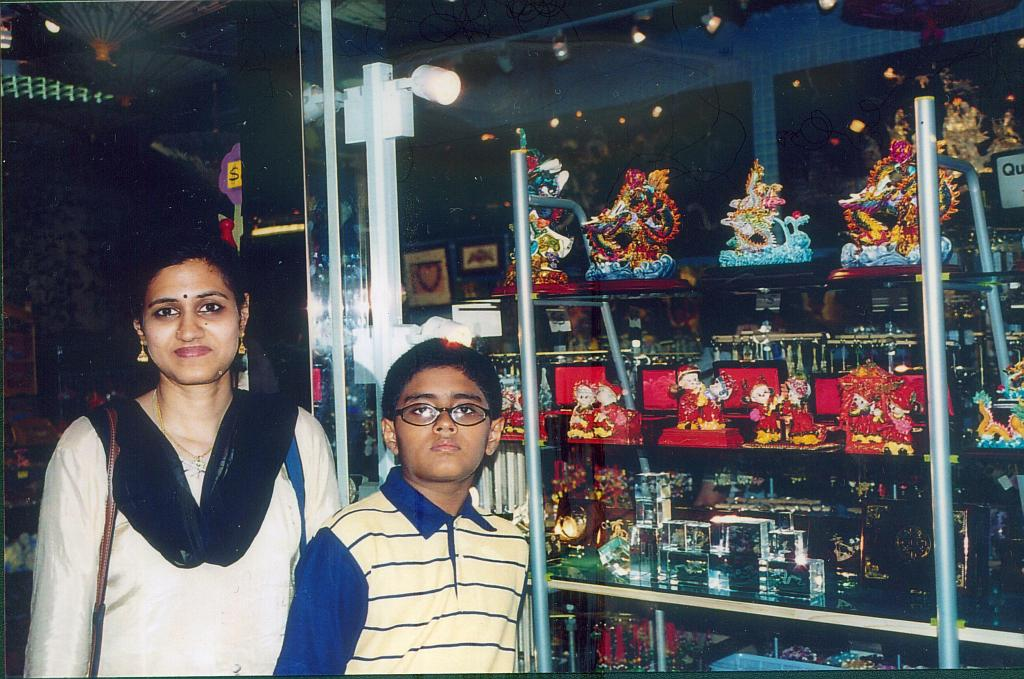Human-face: (138, 258, 240, 376), (400, 362, 493, 477)
